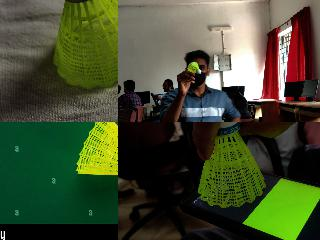shuttlecock: (198, 122, 267, 209), (53, 0, 117, 88), (76, 122, 117, 185), (187, 61, 201, 73)
